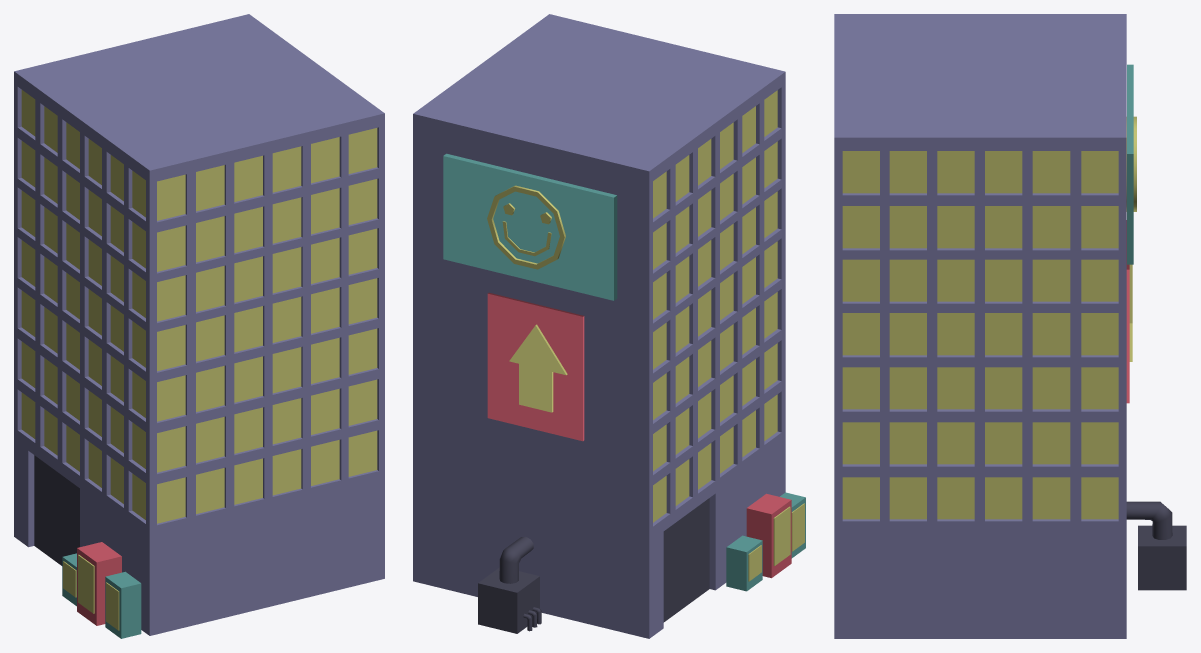
The model's file is SM_House_3_1.fbx.
3 views of the same model, side by side, from view 1: azimuth 30°, elevation 25°; view 2: azimuth 150°, elevation 25°; view 3: azimuth 270°, elevation 25° (orthographic). The views are drawn at different scales.
Visible parts, largest first — view 1: SM_House_3_1; view 2: SM_House_3_1; view 3: SM_House_3_1.
Boxes of the visible parts, bbox=[...] form: SM_House_3_1: bbox=[14, 14, 384, 638]; SM_House_3_1: bbox=[413, 14, 805, 638]; SM_House_3_1: bbox=[834, 14, 1186, 638].
Bounding box in the file's own units: 6.78 × 11.35 × 7.23.
